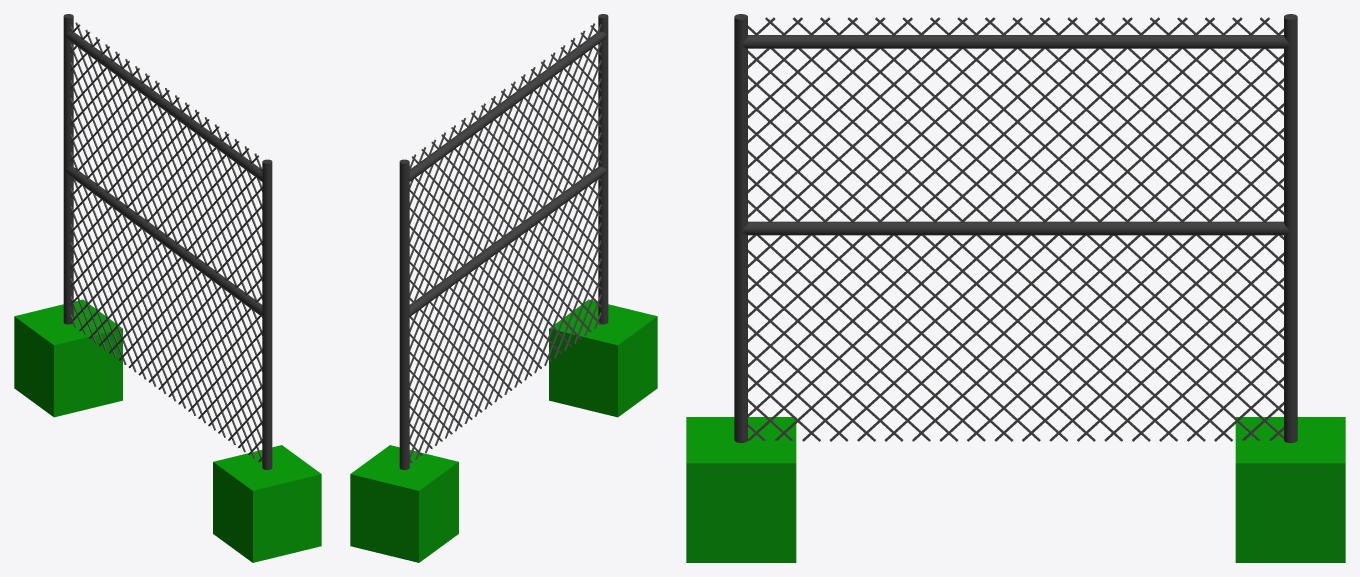
Rendered from FenceMesh7.obj.
The picture shows the model from 3 angles, left to right: view 1: azimuth 30°, elevation 25°; view 2: azimuth 150°, elevation 25°; view 3: azimuth 270°, elevation 25°; orthographic projection. The views are drawn at different scales.
Visible parts, largest first — view 1: Cube_Cube_Material.001, Cube_Cube_Material.002, Cube_Cube_Material.003; view 2: Cube_Cube_Material.001, Cube_Cube_Material.002, Cube_Cube_Material.003; view 3: Cube_Cube_Material.001, Cube_Cube_Material.002, Cube_Cube_Material.003.
Part boxes in pixels (bbox=[...]): Cube_Cube_Material.001: bbox=[70, 22, 262, 462]; Cube_Cube_Material.002: bbox=[14, 299, 321, 562]; Cube_Cube_Material.003: bbox=[63, 14, 272, 469]; Cube_Cube_Material.001: bbox=[409, 23, 601, 462]; Cube_Cube_Material.002: bbox=[350, 299, 657, 562]; Cube_Cube_Material.003: bbox=[399, 14, 608, 469]; Cube_Cube_Material.001: bbox=[748, 17, 1283, 441]; Cube_Cube_Material.002: bbox=[686, 417, 1345, 562]; Cube_Cube_Material.003: bbox=[734, 14, 1297, 442].
Bounding box in the file's own units: 2 × 10.5 × 12.
